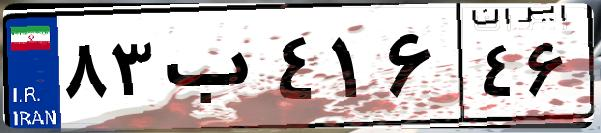1: (330, 28, 385, 110)
3: (110, 28, 158, 98)
4: (270, 28, 330, 110), (475, 38, 525, 113)
6: (385, 28, 445, 110), (525, 38, 570, 115)
8: (57, 26, 110, 100)
ب: (158, 20, 270, 120)
